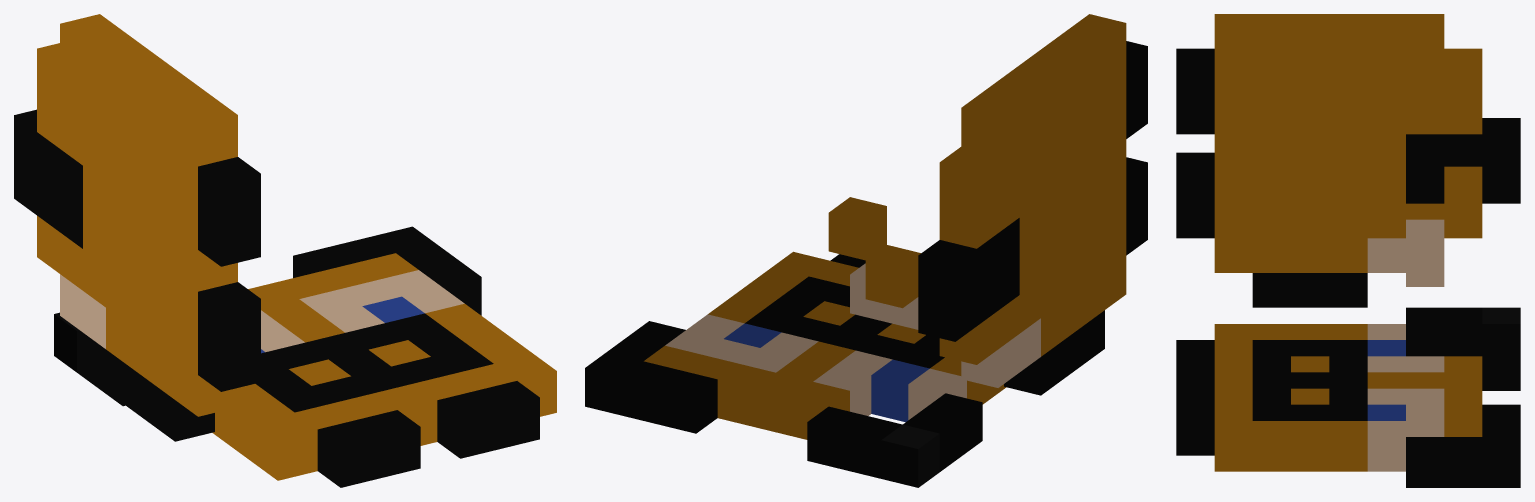
The model's file is MyName.obj.
The picture shows the model from 3 angles, left to right: view 1: azimuth 30°, elevation 25°; view 2: azimuth 150°, elevation 25°; view 3: azimuth 270°, elevation 25°; orthographic projection. The views are drawn at different scales.
Parts seen in each view (by area): view 1: bale; view 2: bale; view 3: bale.
Boxes of the visible parts, box(x1,y1,x2,y2) form: bale: box(14, 14, 556, 487); bale: box(585, 14, 1147, 487); bale: box(1176, 14, 1520, 487).
Size of the model in its own units: 10 by 9 by 9.
